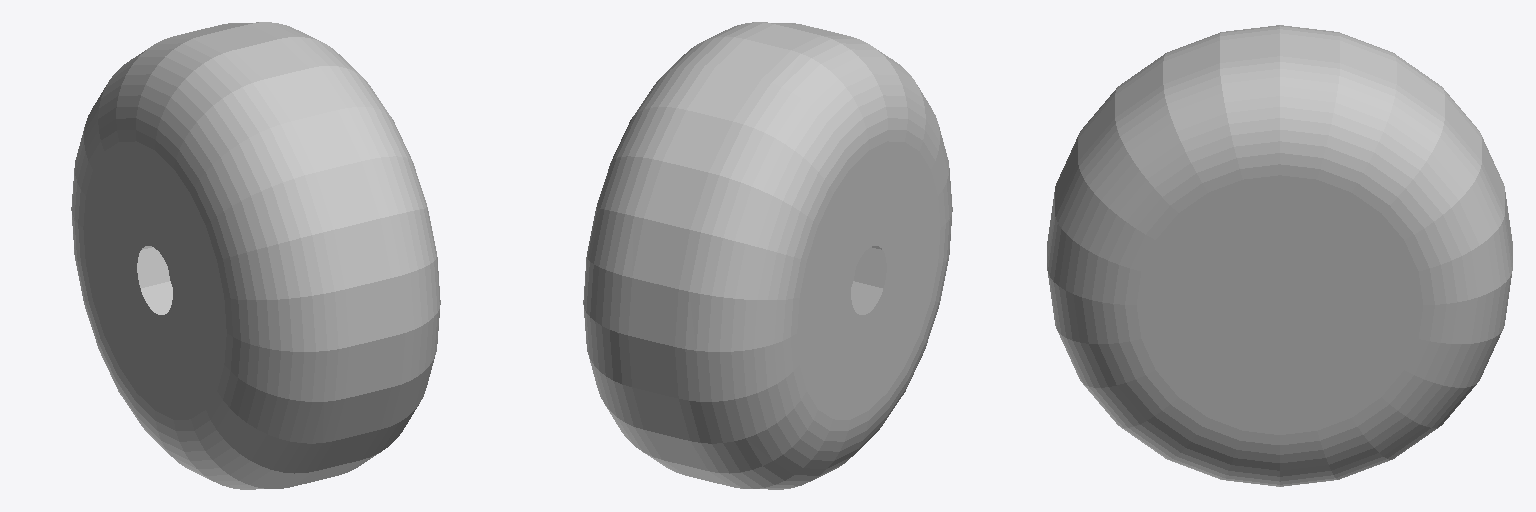
File: original-223.obj
The picture shows the model from 3 angles: view 1: azimuth 30°, elevation 25°; view 2: azimuth 150°, elevation 25°; view 3: azimuth 270°, elevation 25°; orthographic projection.
Visible parts, largest first — view 1: #ID1376; view 2: #ID1376; view 3: #ID1376.
Boxes of the visible parts, x1,y1,x2,y2 form: #ID1376: [71, 22, 440, 489]; #ID1376: [583, 22, 952, 489]; #ID1376: [1047, 25, 1512, 486].
Size of the model in its own units: 0.0196 by 0.0391 by 0.0391.